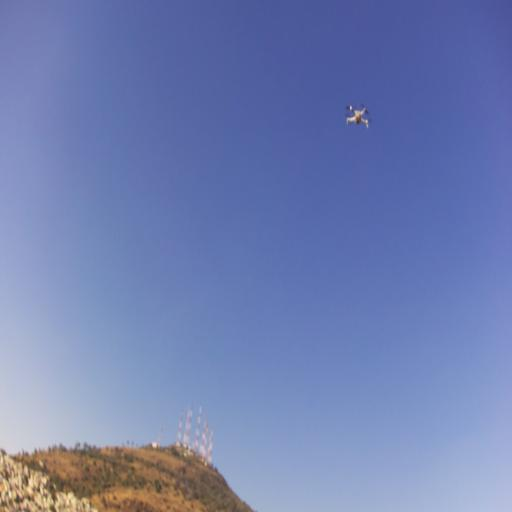drones: (342, 100, 374, 136)
